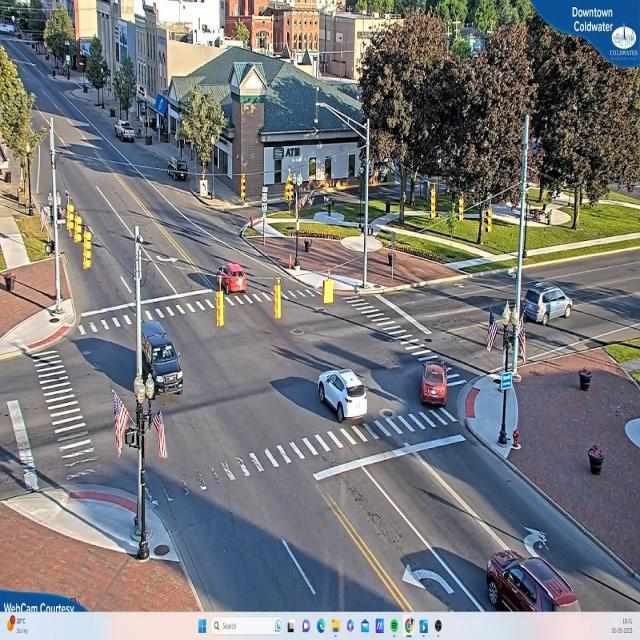car: (491, 553, 584, 612), (140, 321, 184, 397), (316, 370, 368, 423), (523, 282, 572, 324), (420, 362, 448, 408), (218, 262, 250, 296), (116, 123, 136, 143)
